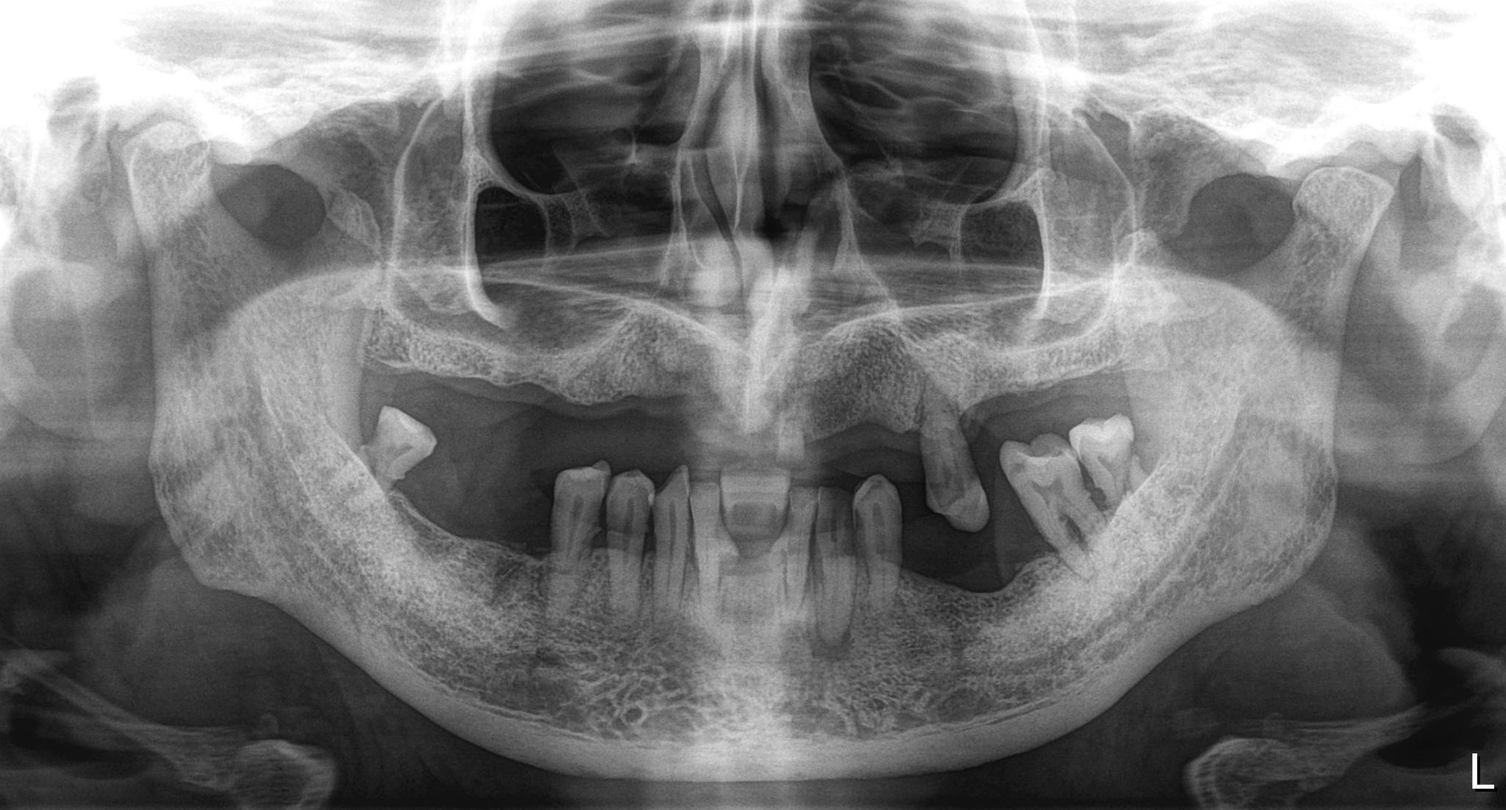Impacted Third Molar: (335, 415, 435, 511)
Missing Tooth: (963, 345, 1139, 414), (487, 450, 543, 604), (430, 454, 479, 601), (677, 314, 720, 457), (572, 305, 615, 431), (518, 301, 563, 420), (967, 500, 1013, 614), (917, 502, 955, 639), (853, 334, 891, 460), (789, 358, 836, 458), (728, 329, 763, 451), (467, 314, 508, 417), (425, 296, 463, 406), (371, 296, 414, 385), (629, 314, 654, 428)
